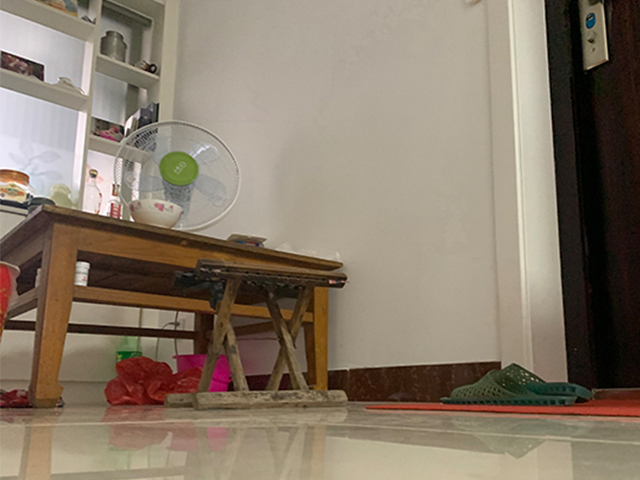carpet: (364, 398, 640, 419)
slippers: (438, 363, 593, 406)
stool: (165, 258, 350, 411)
table: (1, 204, 344, 408)
